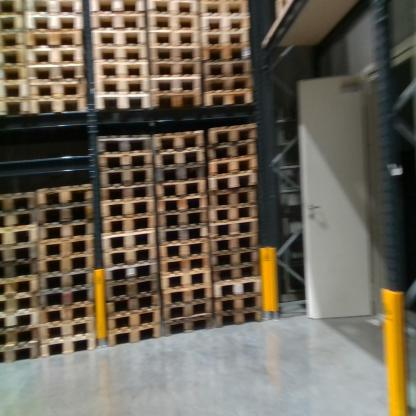pallet: (41, 174, 95, 216), (98, 225, 157, 256), (103, 243, 160, 274), (40, 215, 97, 245), (40, 284, 95, 315), (99, 214, 156, 243), (105, 273, 163, 300), (27, 74, 86, 99), (207, 121, 256, 151), (102, 164, 154, 192), (101, 194, 156, 220), (211, 149, 260, 178), (166, 312, 213, 342), (106, 305, 162, 330), (106, 295, 162, 320), (41, 251, 97, 276), (99, 180, 156, 204), (40, 304, 97, 328), (40, 335, 99, 358), (106, 262, 160, 287), (97, 151, 153, 175), (39, 319, 97, 342), (24, 46, 87, 67), (162, 269, 217, 293), (89, 8, 146, 31), (26, 62, 88, 83), (154, 127, 206, 152), (160, 251, 212, 276), (39, 266, 95, 289), (37, 200, 95, 222), (212, 245, 263, 270), (209, 202, 262, 226), (156, 192, 209, 216), (151, 85, 204, 109), (201, 89, 256, 112), (153, 177, 210, 199), (214, 274, 260, 301), (154, 161, 208, 184), (25, 28, 90, 47), (89, 25, 145, 47), (140, 12, 200, 32), (158, 222, 210, 245), (148, 44, 202, 66), (39, 237, 97, 257), (92, 92, 150, 112), (28, 95, 89, 114), (94, 130, 149, 151), (210, 183, 260, 206), (157, 237, 214, 257), (89, 42, 149, 61), (92, 73, 151, 92), (208, 229, 261, 250), (157, 208, 210, 229), (0, 223, 41, 250), (208, 167, 260, 188), (23, 13, 87, 30), (210, 218, 261, 239), (2, 289, 40, 317), (95, 58, 150, 77), (109, 326, 163, 345), (208, 141, 259, 161), (154, 146, 207, 165), (160, 296, 213, 315), (2, 323, 42, 348), (200, 14, 250, 34), (201, 25, 253, 44), (0, 307, 41, 331), (22, 2, 83, 18), (200, 57, 256, 74), (211, 263, 263, 281), (216, 308, 265, 327), (2, 257, 41, 280), (1, 274, 40, 297), (1, 341, 40, 364), (159, 282, 211, 299), (214, 290, 263, 308), (148, 32, 203, 48), (199, 43, 254, 59), (0, 187, 38, 210), (201, 74, 257, 89), (149, 76, 203, 91), (1, 243, 41, 263), (147, 1, 199, 16), (201, 1, 250, 16), (89, 2, 148, 14), (0, 210, 37, 229), (1, 93, 29, 117), (149, 63, 198, 76), (1, 46, 26, 68), (0, 62, 27, 81), (1, 78, 29, 95), (2, 25, 24, 46), (1, 14, 24, 34), (1, 1, 23, 14)
